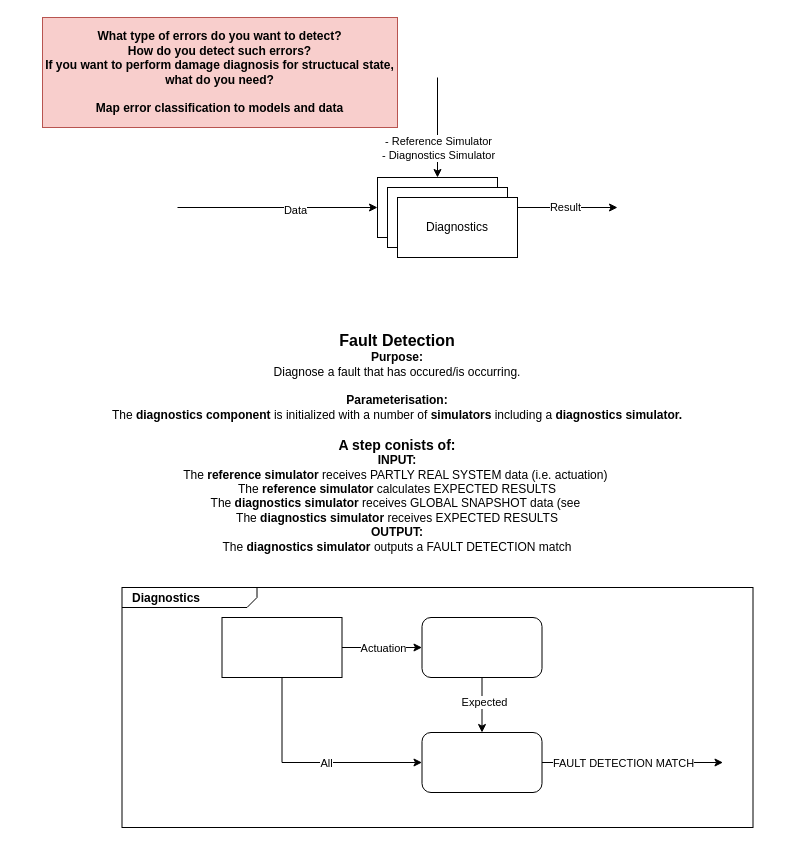
Some shapes in this 794 by 845 pixel diagram are drawn without their labels. The shapes that lost their labels are listed below. From the top down, each one's centre as x and y in pixels, then its label:
the point at 281,647: Data Provider
the point at 481,647: Reference Simulator
the point at 481,762: Diagnostics Simulator
